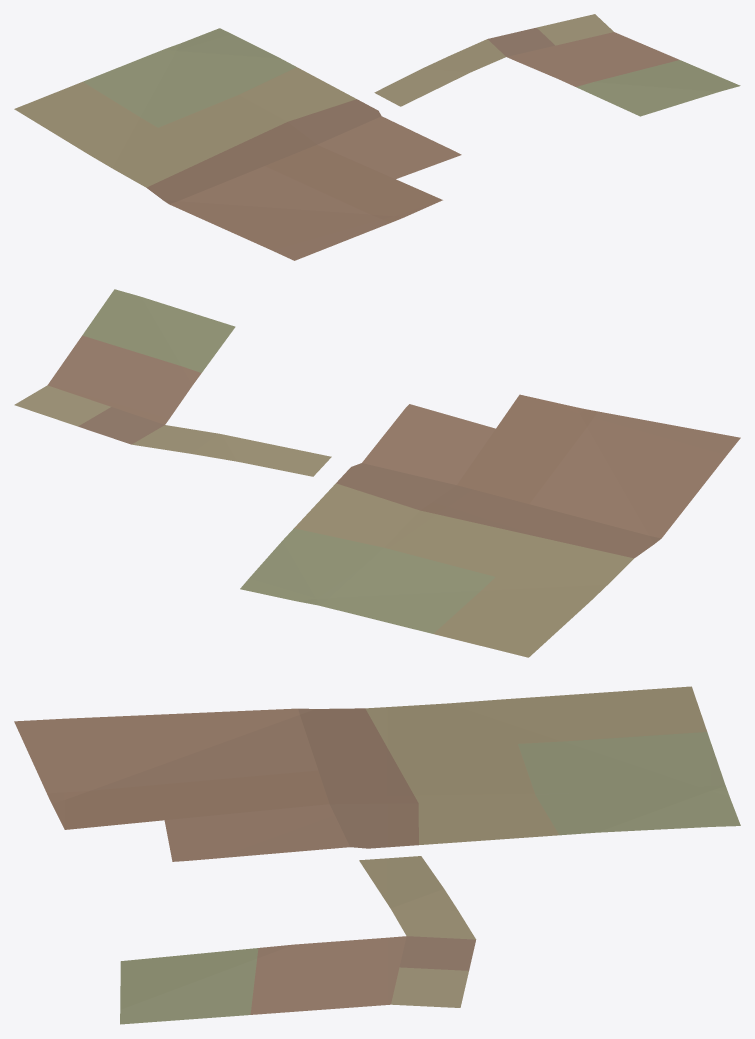
Rendered from farm_-7_-14_soil.glb.
The picture shows the model from 3 angles, top to bottom: view 1: azimuth 30°, elevation 25°; view 2: azimuth 150°, elevation 25°; view 3: azimuth 270°, elevation 25°; orthographic projection. The views are drawn at different scales.
Visible parts, largest first — view 1: geometry_0; view 2: geometry_0; view 3: geometry_0.
Boxes of the visible parts, <box> form: geometry_0: <box>14,14,740,260</box>; geometry_0: <box>14,289,740,657</box>; geometry_0: <box>14,686,740,1024</box>.
Size of the model in its own units: 227 by 15.29 by 180.
